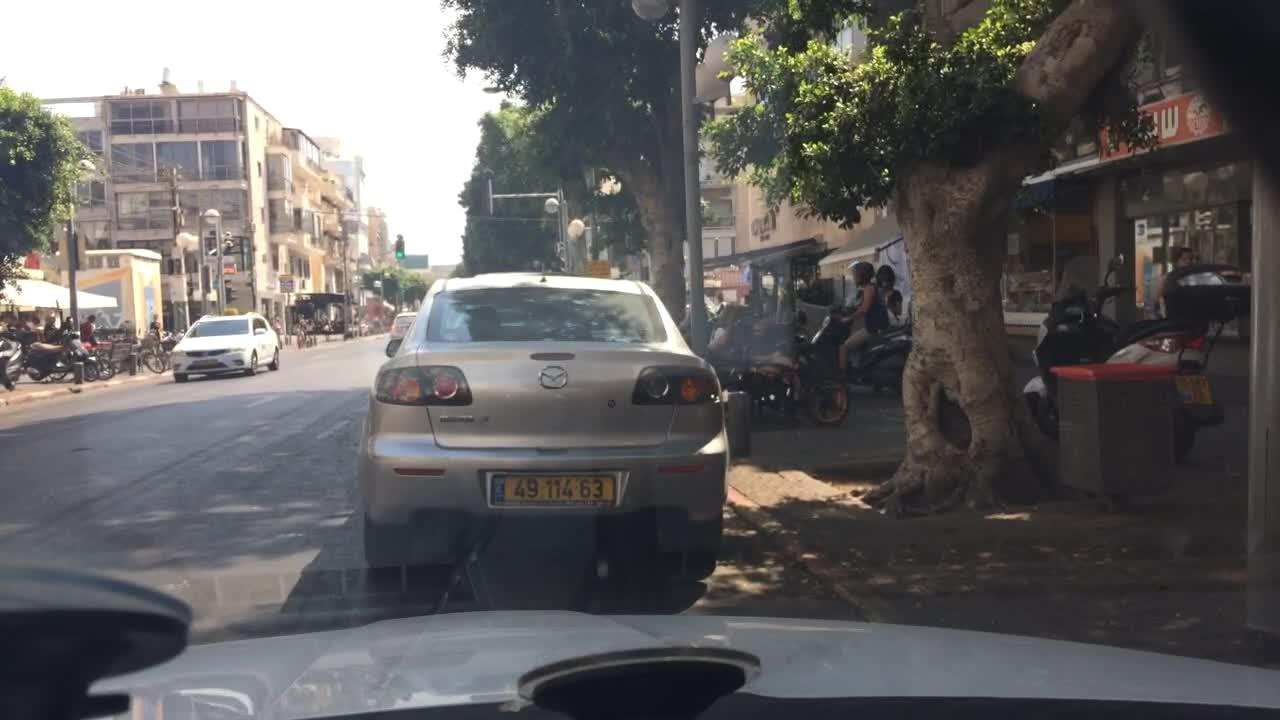Mazda: (533, 362, 573, 395)
